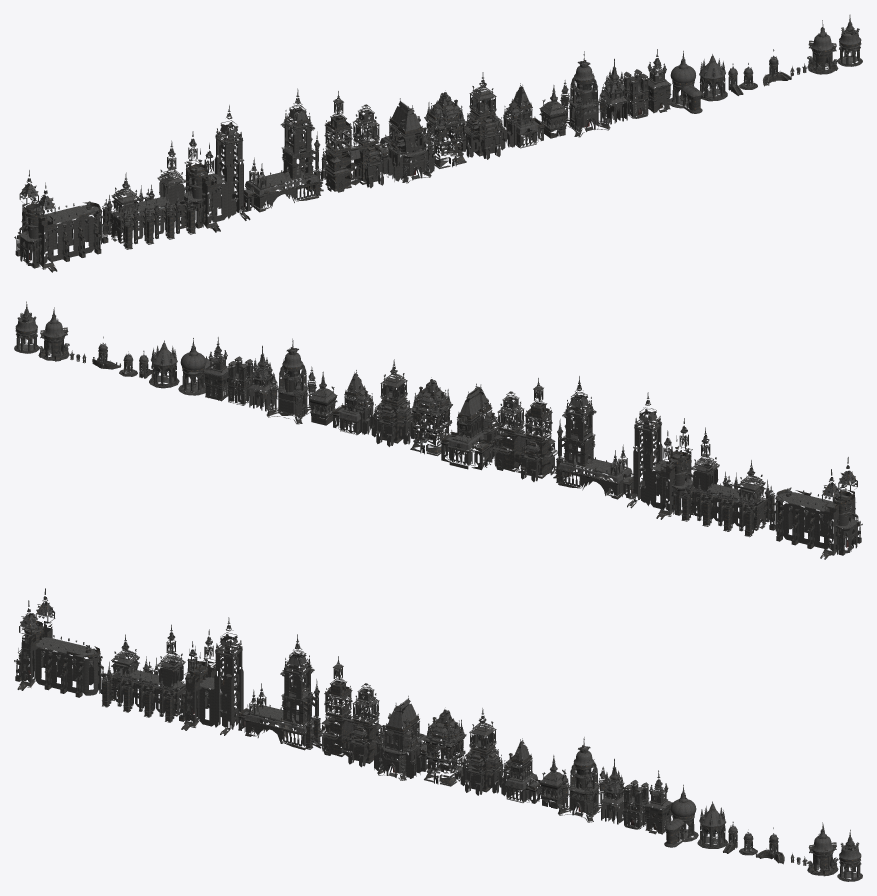
File: kit_buildings_lod.glb
The picture shows the model from 3 angles, top to bottom: view 1: azimuth 30°, elevation 25°; view 2: azimuth 150°, elevation 25°; view 3: azimuth 330°, elevation 25°; orthographic projection.
Visible parts, largest first — view 1: SM_Gothic_building_01, SM_Gothic_building_02, SM_Gothic_building_03, SM_Gothic_building_04, SM_Gothic_building_05, SM_Gothic_building_06, SM_Gothic_building_11, SM_Gothic_building_08, SM_Gothic_building_07, SM_Gothic_building_09, SM_Gothic_pavilion_01, SM_Gothic_building_13 (+6 smaller); view 2: SM_Gothic_building_01, SM_Gothic_building_02, SM_Gothic_building_03, SM_Gothic_building_04, SM_Gothic_building_05, SM_Gothic_building_06, SM_Gothic_building_08, SM_Gothic_building_11, SM_Gothic_building_07, SM_Gothic_building_09, SM_Gothic_pavilion_01, SM_Gothic_building_14 (+6 smaller); view 3: SM_Gothic_building_01, SM_Gothic_building_03, SM_Gothic_building_02, SM_Gothic_building_04, SM_Gothic_building_05, SM_Gothic_building_06, SM_Gothic_building_07, SM_Gothic_building_08, SM_Gothic_building_11, SM_Gothic_building_09, SM_Gothic_pavilion_01, SM_Gothic_building_14 (+6 smaller).
Part boxes in pixels (left/top/right/bottom): SM_Gothic_building_01: left=14, top=170, right=109, bottom=272; SM_Gothic_building_02: left=102, top=140, right=195, bottom=249; SM_Gothic_building_03: left=180, top=105, right=250, bottom=232; SM_Gothic_building_04: left=240, top=88, right=323, bottom=212; SM_Gothic_building_05: left=321, top=91, right=383, bottom=192; SM_Gothic_building_06: left=375, top=98, right=434, bottom=183; SM_Gothic_building_11: left=560, top=51, right=611, bottom=137; SM_Gothic_building_08: left=461, top=72, right=505, bottom=159; SM_Gothic_building_07: left=424, top=90, right=466, bottom=168; SM_Gothic_building_09: left=502, top=83, right=544, bottom=148; SM_Gothic_pavilion_01: left=669, top=50, right=702, bottom=113; SM_Gothic_building_13: left=623, top=69, right=649, bottom=118; SM_Gothic_building_01: left=768, top=457, right=862, bottom=559; SM_Gothic_building_02: left=681, top=427, right=775, bottom=537; SM_Gothic_building_03: left=627, top=392, right=696, bottom=519; SM_Gothic_building_04: left=553, top=376, right=637, bottom=499; SM_Gothic_building_05: left=490, top=378, right=557, bottom=481; SM_Gothic_building_06: left=440, top=383, right=499, bottom=470; SM_Gothic_building_08: left=371, top=359, right=416, bottom=446; SM_Gothic_building_11: left=265, top=338, right=316, bottom=424; SM_Gothic_building_07: left=410, top=377, right=452, bottom=456; SM_Gothic_building_09: left=332, top=370, right=374, bottom=435; SM_Gothic_pavilion_01: left=178, top=338, right=212, bottom=395; SM_Gothic_building_14: left=204, top=337, right=228, bottom=401; SM_Gothic_building_01: left=14, top=588, right=106, bottom=697; SM_Gothic_building_03: left=177, top=617, right=243, bottom=735; SM_Gothic_building_02: left=101, top=624, right=192, bottom=722; SM_Gothic_building_04: left=238, top=634, right=323, bottom=750; SM_Gothic_building_05: left=318, top=656, right=382, bottom=767; SM_Gothic_building_06: left=374, top=695, right=435, bottom=780; SM_Gothic_building_07: left=423, top=707, right=466, bottom=786; SM_Gothic_building_08: left=460, top=708, right=503, bottom=795; SM_Gothic_building_11: left=557, top=737, right=605, bottom=822; SM_Gothic_building_09: left=501, top=738, right=541, bottom=803; SM_Gothic_pavilion_01: left=664, top=784, right=698, bottom=847; SM_Gothic_building_14: left=644, top=770, right=672, bottom=834.
Size of the model in its own units: 431 by 54.03 by 30.34.
4 materials, 4 textured.
